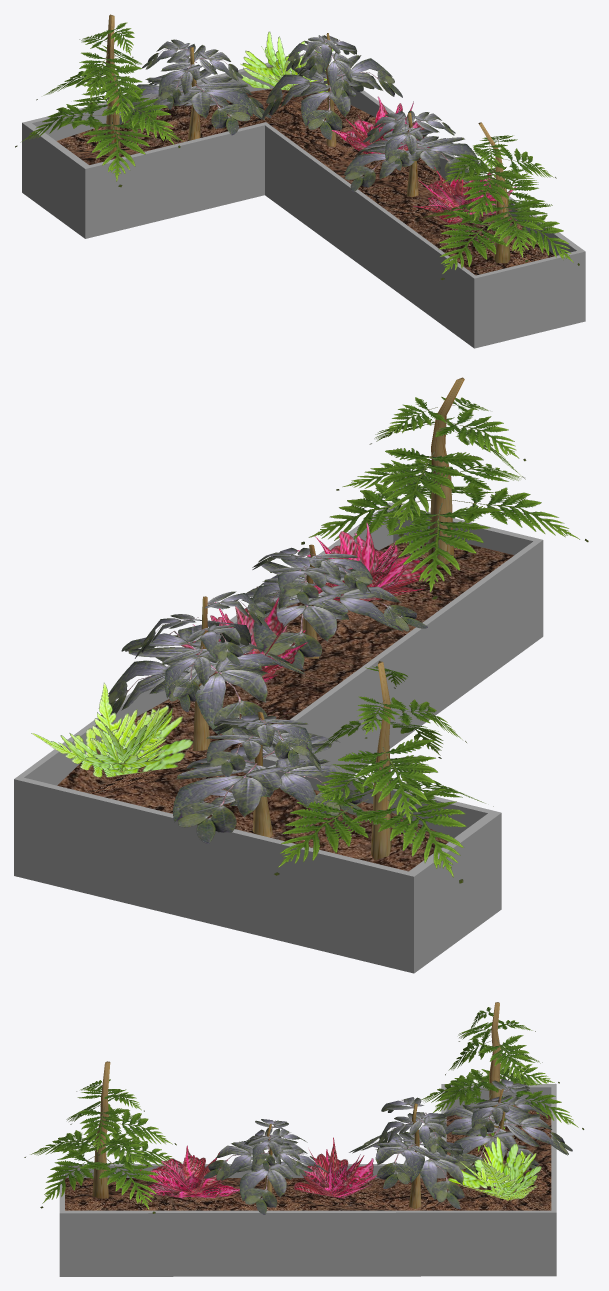
Rendered from Model_Plant_Potted_L_01.fbx.
The picture shows the model from 3 angles, top to bottom: view 1: azimuth 30°, elevation 25°; view 2: azimuth 150°, elevation 25°; view 3: azimuth 270°, elevation 25°; orthographic projection. The views are drawn at different scales.
Parts seen in each view (by area): view 1: Plant_Potted_L_01; view 2: Plant_Potted_L_01; view 3: Plant_Potted_L_01.
Part boxes in pixels (x1,y1,x2,y2): Plant_Potted_L_01: [15, 14, 585, 348]; Plant_Potted_L_01: [14, 377, 588, 973]; Plant_Potted_L_01: [24, 1002, 584, 1276].
Bounding box in the file's own units: 330 × 172 × 504.
